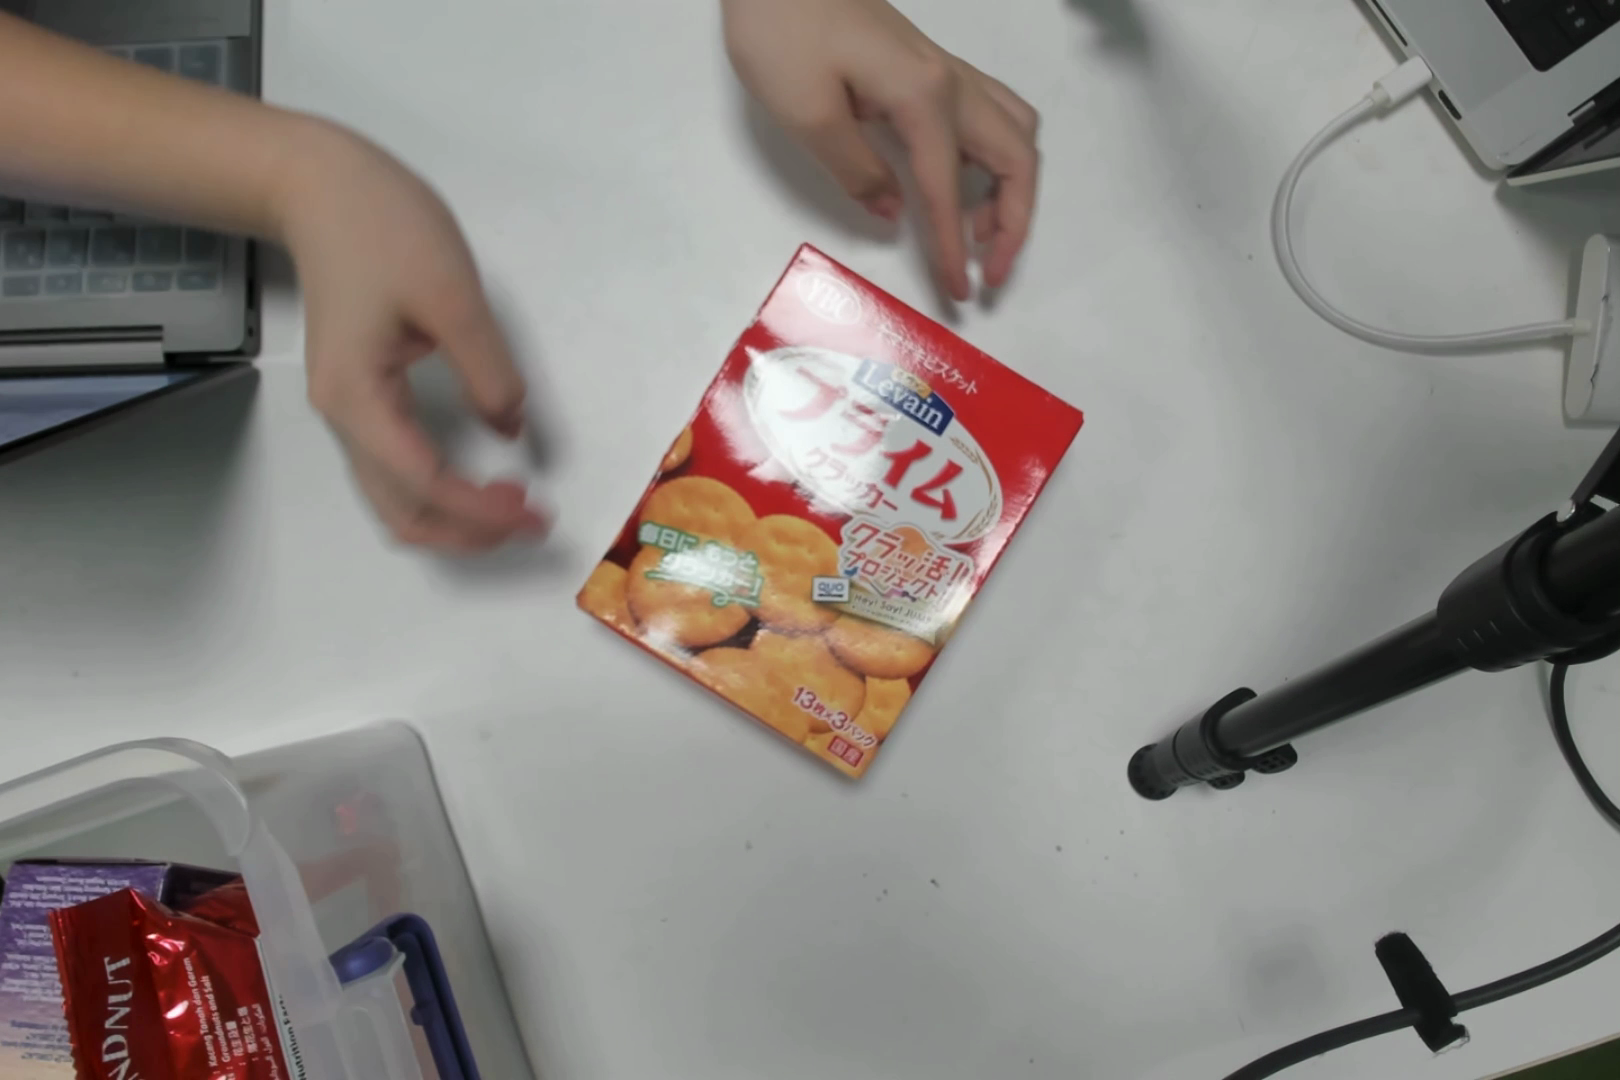c: (634, 268, 1009, 790)
